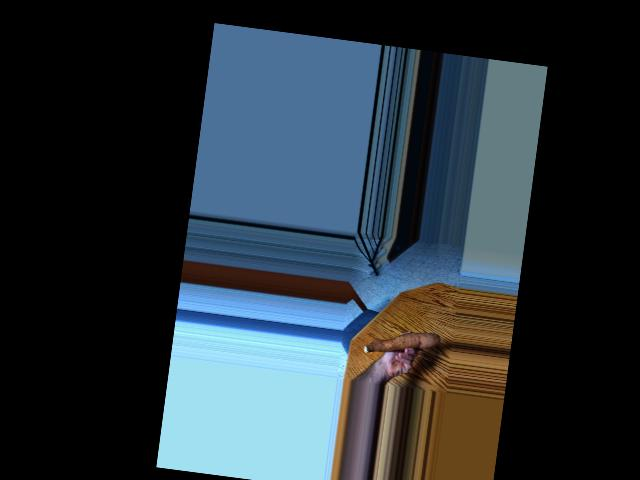sweet_potato: (364, 320, 438, 362)
